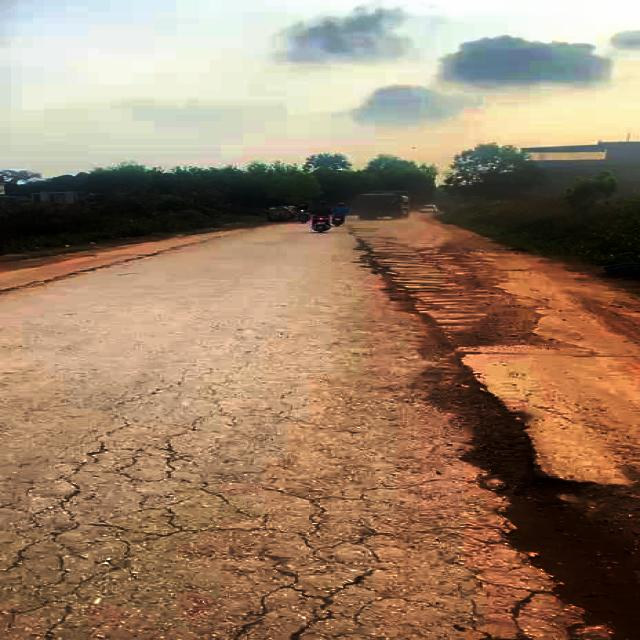pothole: (449, 427, 640, 640)
